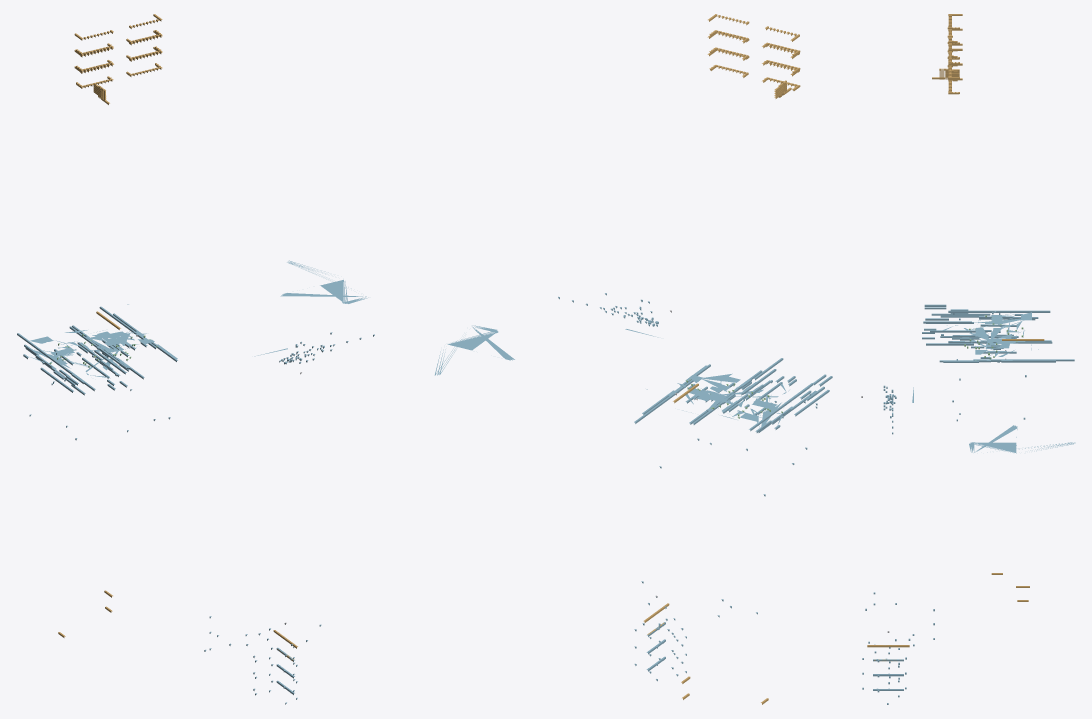
The model's file is LIVE-GEOM-TEST_BIM-MODEL-2026-00012.glb.
3 renders of one model, left to right at view 1: azimuth 30°, elevation 25°; view 2: azimuth 150°, elevation 25°; view 3: azimuth 270°, elevation 25°, orthographic. The views are drawn at different scales.
Bounding box in the file's own units: 66.96 × 128 × 40.83.
